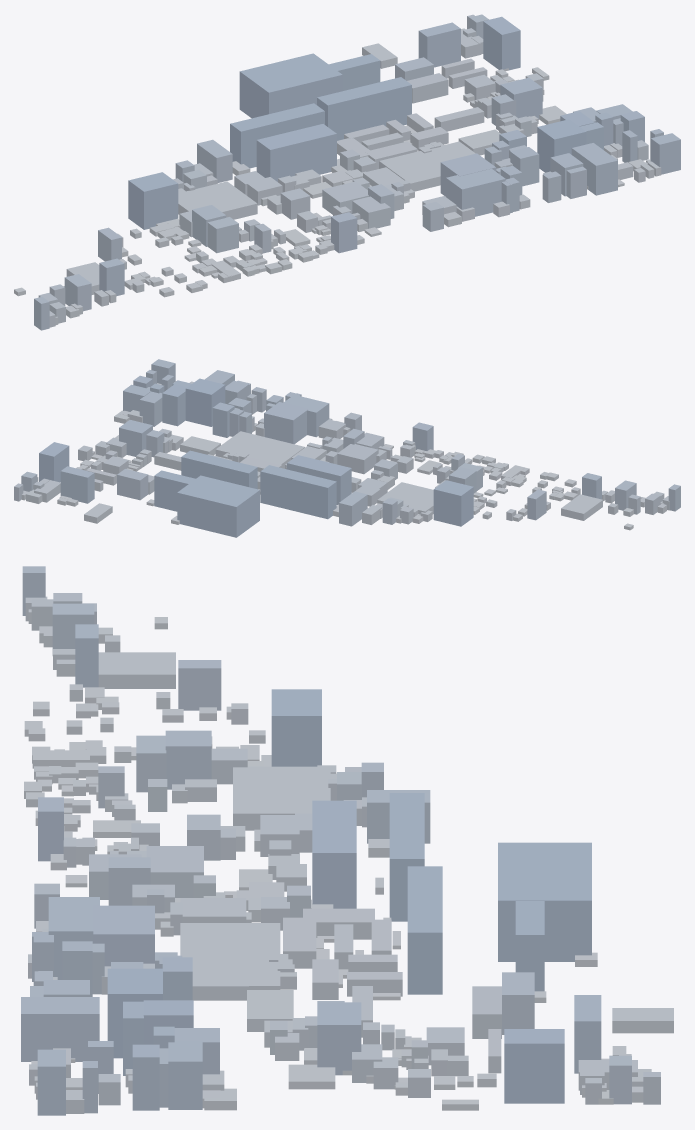
3 renders of one model, top to bottom at view 1: azimuth 30°, elevation 25°; view 2: azimuth 150°, elevation 25°; view 3: azimuth 270°, elevation 25°, orthographic. The views are drawn at different scales.
Size of the model in its own units: 882 by 52.41 by 481.
